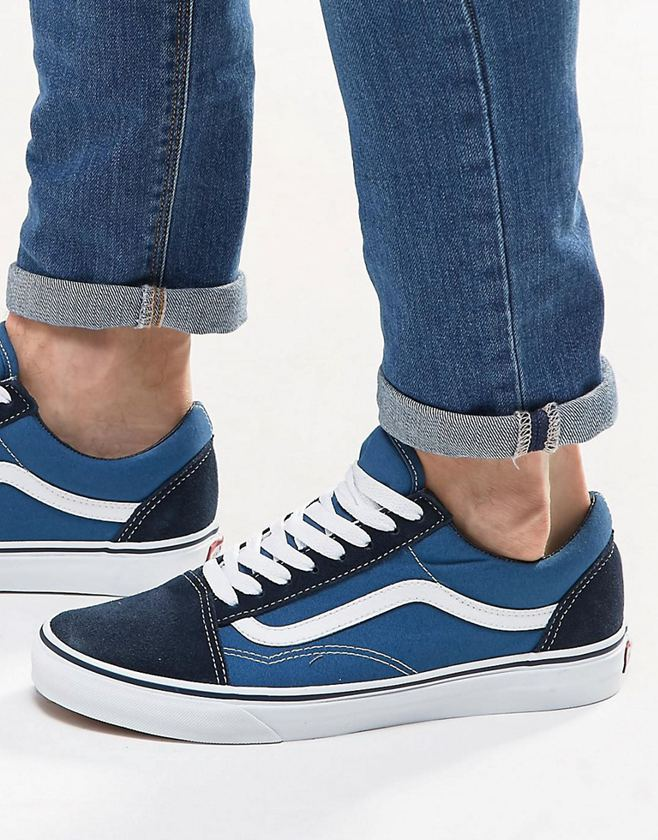Vans Old Skool Blue: (24, 423, 640, 753)
